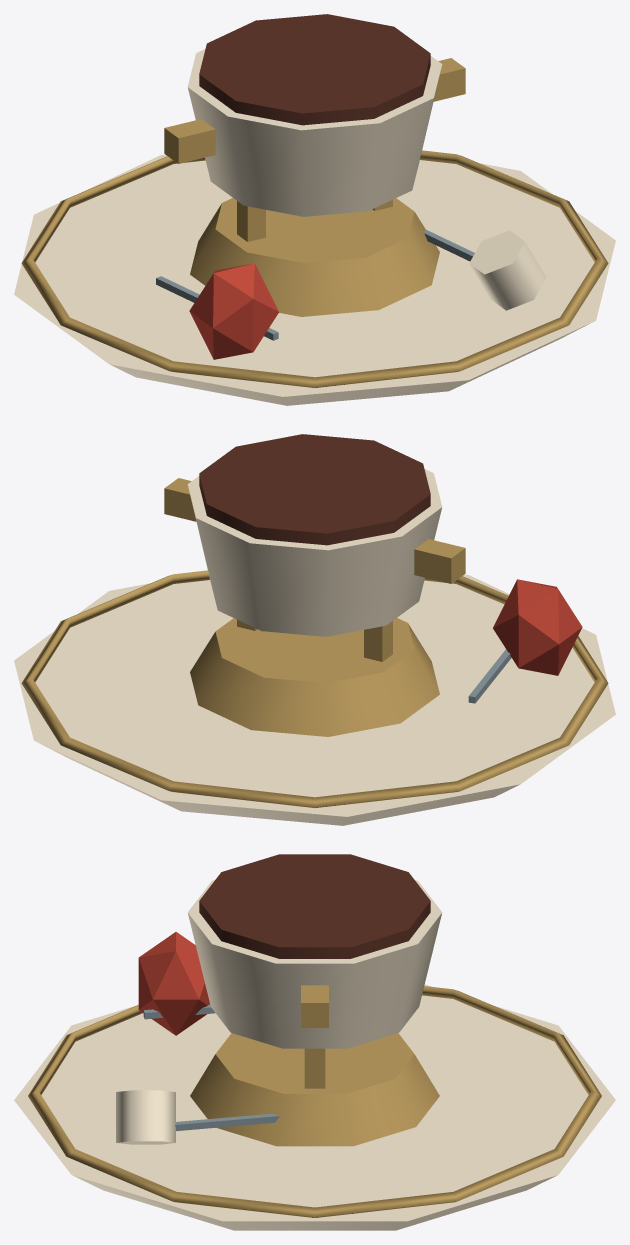
File: chocolate-fondue.glb
3 renders of one model, top to bottom at view 1: azimuth 30°, elevation 25°; view 2: azimuth 150°, elevation 25°; view 3: azimuth 270°, elevation 25°, orthographic. The views are drawn at different scales.
Parts seen in each view (by area): view 1: chocolate-fondue; view 2: chocolate-fondue; view 3: chocolate-fondue.
Boxes of the visible parts, x1=… form: chocolate-fondue: x1=14, y1=14, x2=615, y2=405; chocolate-fondue: x1=14, y1=434, x2=615, y2=825; chocolate-fondue: x1=14, y1=854, x2=615, y2=1230.
Size of the model in its own units: 0.248 by 0.107 by 0.26.
